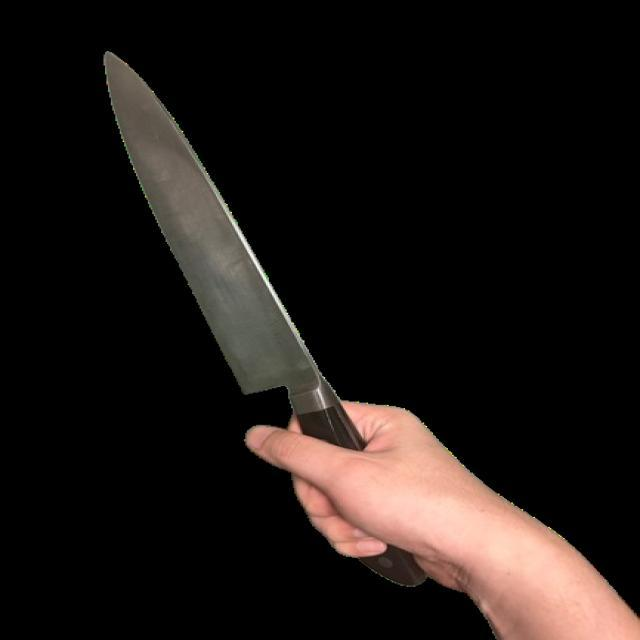knife: (108, 44, 435, 594)
